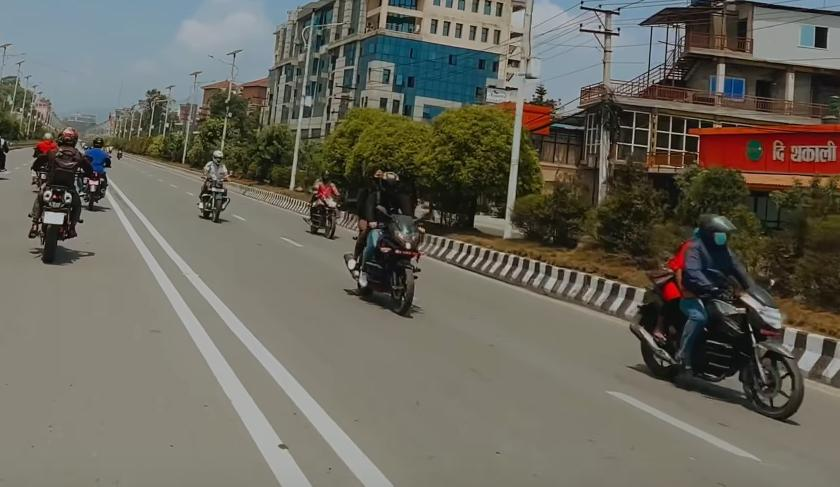bike: (621, 261, 827, 421), (343, 199, 439, 318), (198, 169, 239, 224)
